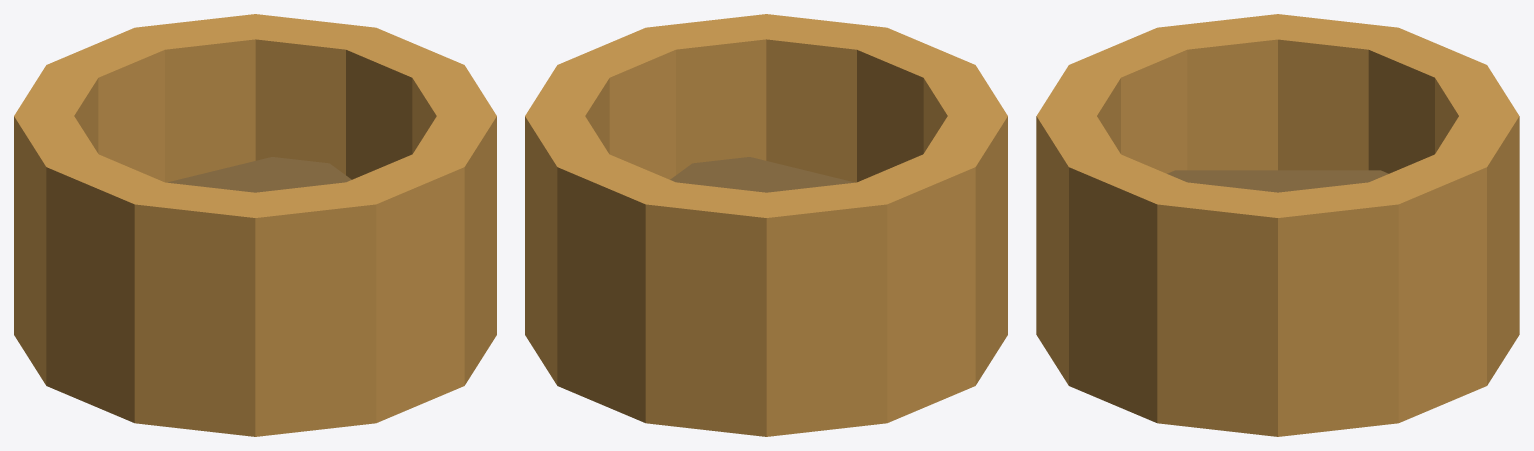
Rendered from plant_3.glb.
3 views of the same model, side by side, from view 1: azimuth 30°, elevation 25°; view 2: azimuth 150°, elevation 25°; view 3: azimuth 270°, elevation 25° (orthographic).
Parts seen in each view (by area): view 1: Mesh_Mesh_head_geo.001_lambert2SG.001; view 2: Mesh_Mesh_head_geo.001_lambert2SG.001; view 3: Mesh_Mesh_head_geo.001_lambert2SG.001.
Boxes of the visible parts, x1,y1,x2,y2 form: Mesh_Mesh_head_geo.001_lambert2SG.001: [14, 14, 496, 436]; Mesh_Mesh_head_geo.001_lambert2SG.001: [525, 14, 1007, 436]; Mesh_Mesh_head_geo.001_lambert2SG.001: [1036, 14, 1519, 436].
Bounding box in the file's own units: 1 × 0.5 × 1.
